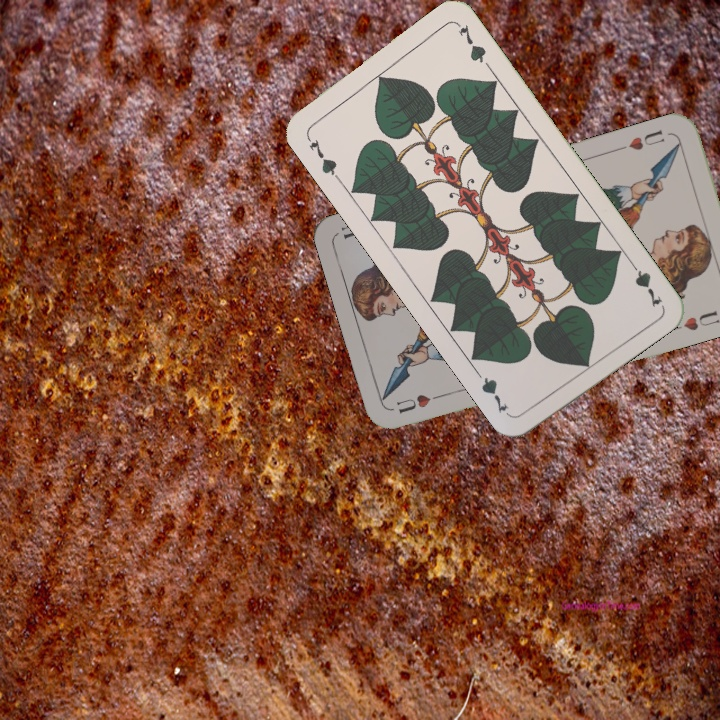G7: (624, 256, 665, 310), (302, 130, 342, 182)
HU: (392, 389, 448, 416), (624, 126, 667, 153)
